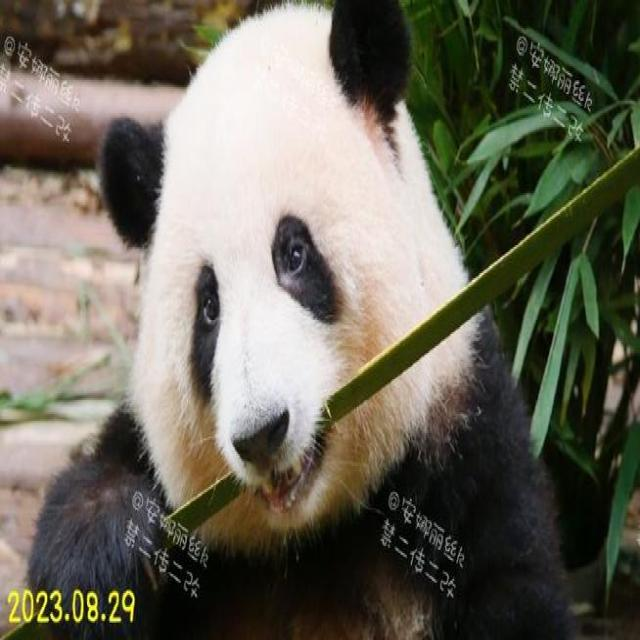panda: (46, 0, 541, 593)
